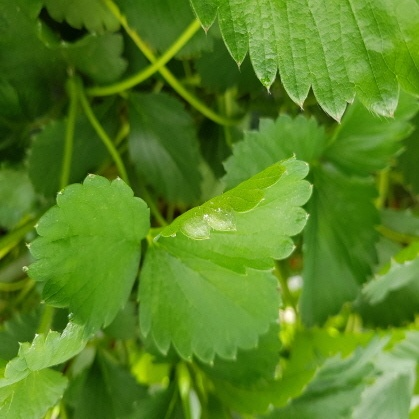Powdery_Leaf: (150, 142, 313, 268)
